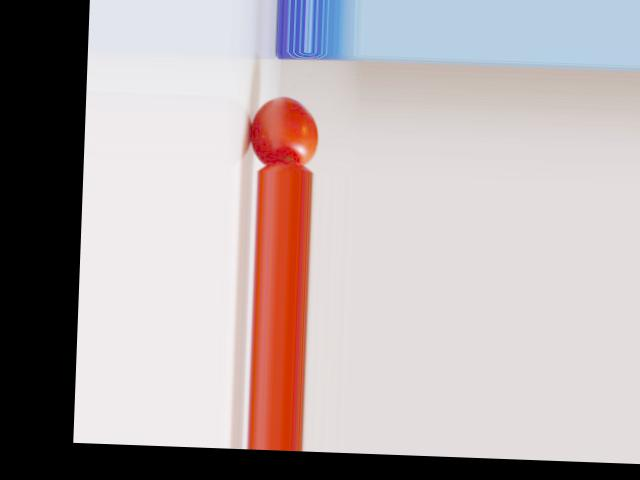tomato: (249, 95, 319, 165)
